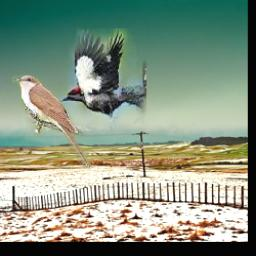Cuckoo: (13, 75, 92, 169)
Woodpecker: (58, 28, 147, 132)
